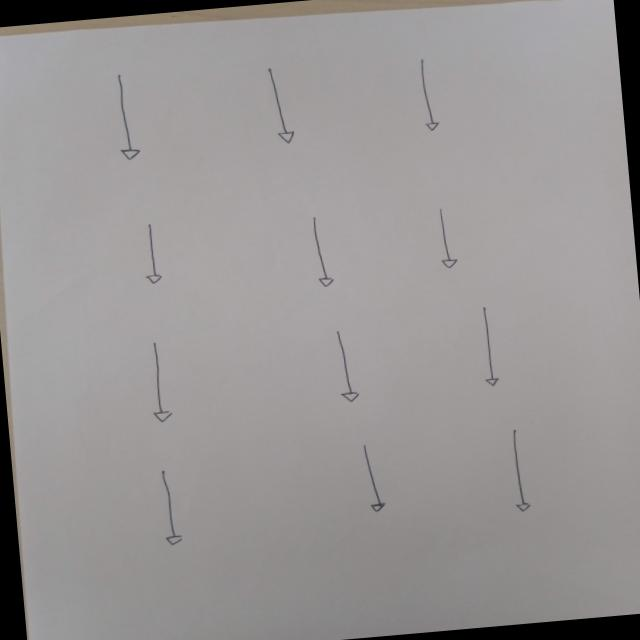arrow_line_down: (102, 72, 150, 164), (258, 68, 309, 150), (499, 425, 542, 517), (142, 342, 180, 423), (303, 214, 342, 292), (408, 57, 448, 133), (150, 471, 186, 548), (324, 331, 360, 405), (475, 306, 506, 390), (420, 208, 461, 269), (357, 446, 390, 519), (136, 216, 166, 287)
